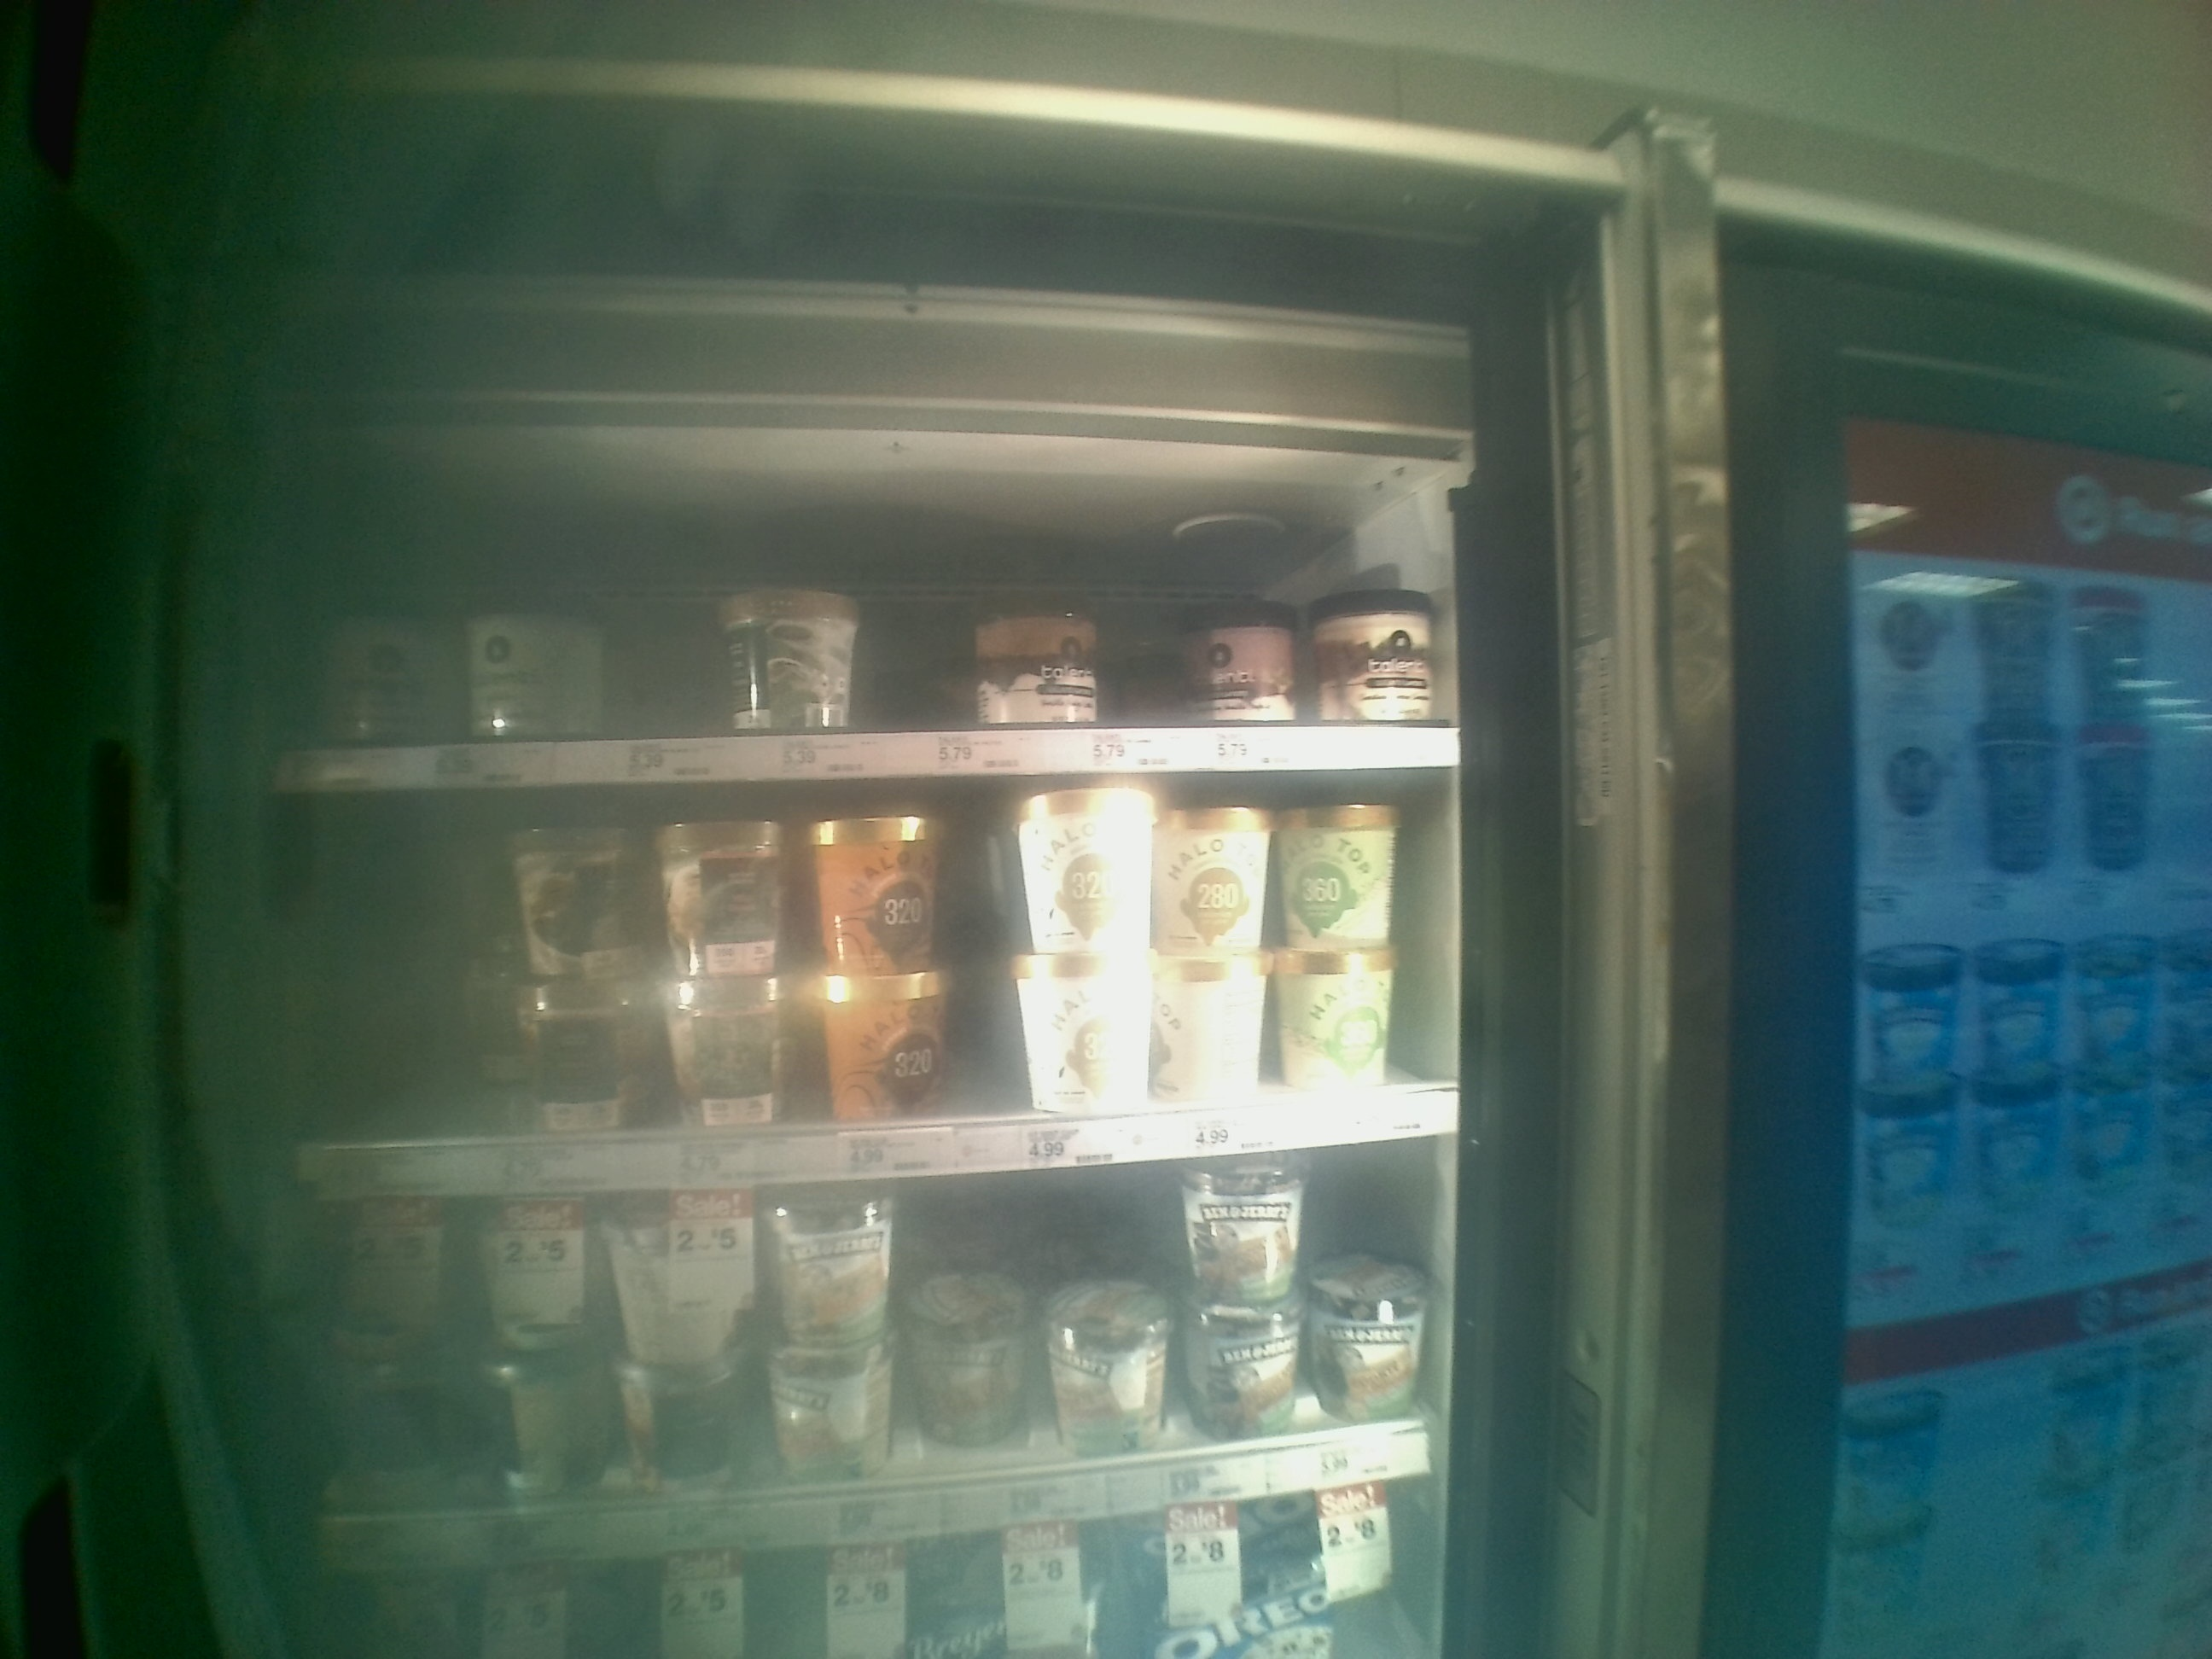shelf: (296, 774, 1463, 1173), (294, 1175, 1447, 1542), (294, 462, 1470, 772)
